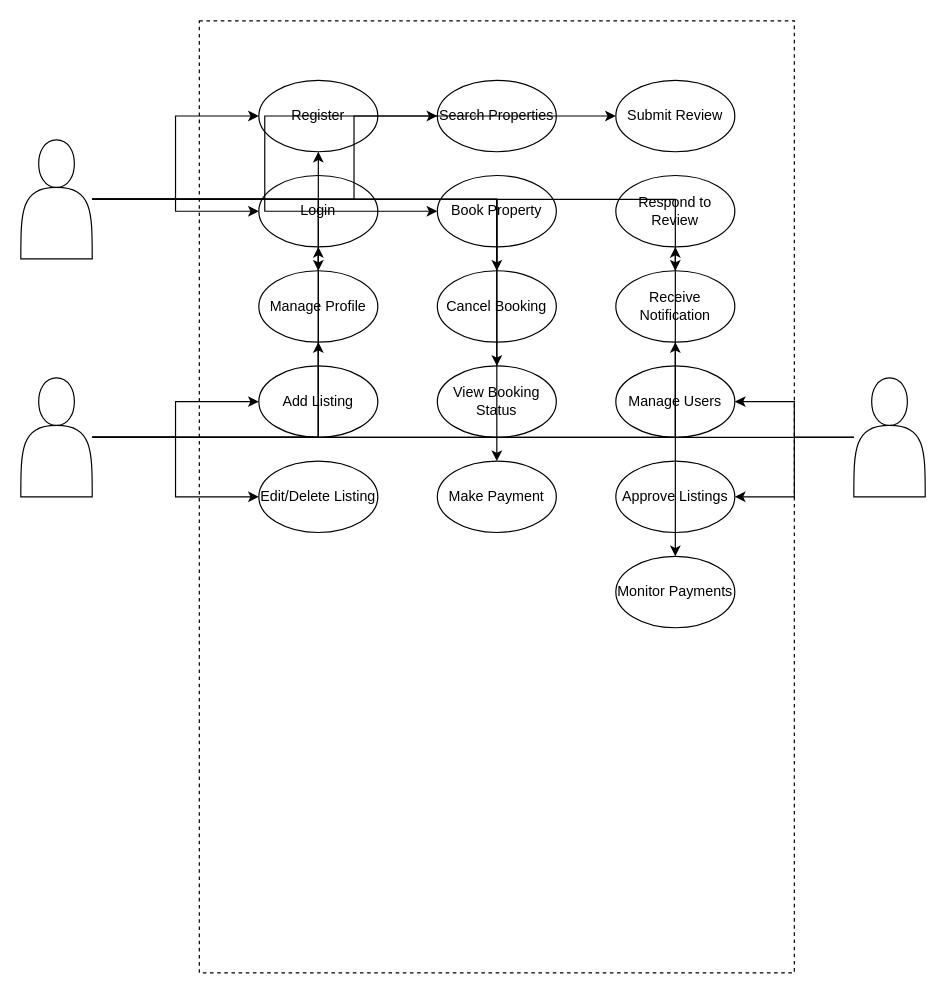
Image size: 946x994. Some labels were removed from this diagram. Each missing label, with the centre of its shape:
Admin: the point at 889,437
Guest: the point at 56,199
Host: the point at 56,437
